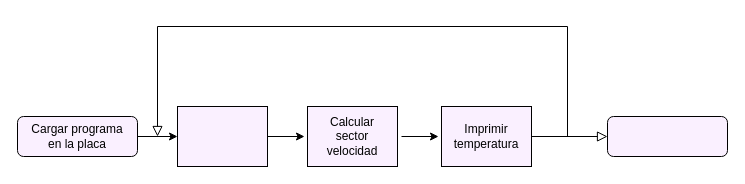
The diagram is 745 pixels wide and 184 high, and some of its shapes have lost their labels. The centre of each missing label's shape, as x and y in pixels:
Apagar placa: pixel 667 136
Leer valor velocidad: pixel 222 136
